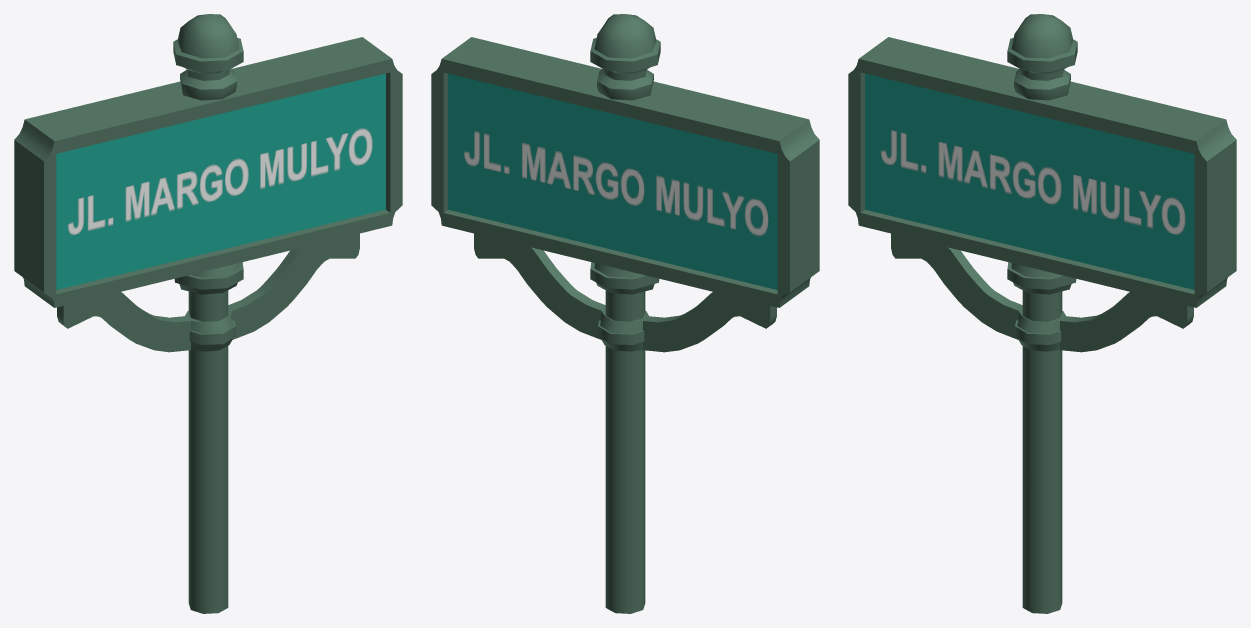
Rendered from Plang_MargoMulyo.fbx.
The picture shows the model from 3 angles, left to right: view 1: azimuth 30°, elevation 25°; view 2: azimuth 150°, elevation 25°; view 3: azimuth 330°, elevation 25°; orthographic projection.
Visible parts, largest first — view 1: Plang_Margo_Mulyo; view 2: Plang_Margo_Mulyo; view 3: Plang_Margo_Mulyo.
Boxes of the visible parts, box(x1,y1,x2,y2) form: Plang_Margo_Mulyo: box(14, 14, 402, 613); Plang_Margo_Mulyo: box(431, 14, 819, 613); Plang_Margo_Mulyo: box(848, 14, 1236, 613).
Size of the model in its own units: 98.27 by 155 by 17.81.
Materials: 1 (1 with a texture image).
